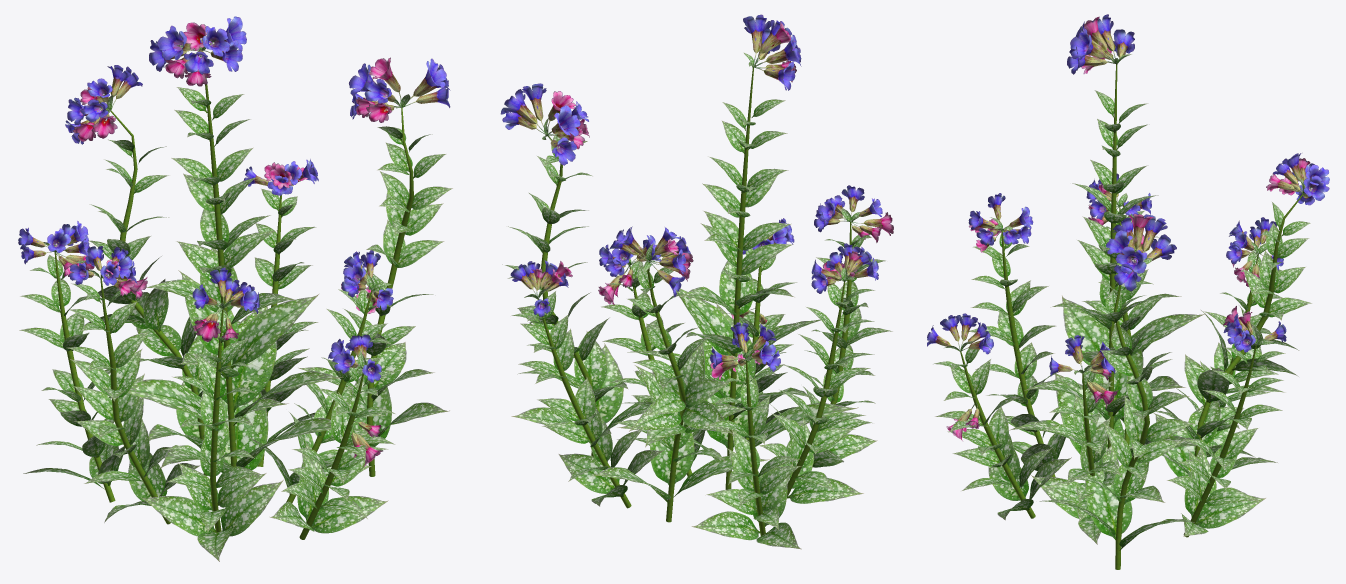
The model's file is lungwort.glb.
3 views of the same model, side by side, from view 1: azimuth 30°, elevation 25°; view 2: azimuth 150°, elevation 25°; view 3: azimuth 270°, elevation 25° (orthographic). The views are drawn at different scales.
Parts seen in each view (by area): view 1: Leaf_2_spring, Flower_Blue_spring, Bark_spring, Flower_Pink_spring; view 2: Leaf_2_spring, Flower_Blue_spring, Bark_spring, Flower_Pink_spring; view 3: Leaf_2_spring, Flower_Blue_spring, Bark_spring, Flower_Pink_spring.
Boxes of the visible parts, x1,y1,x2,y2 form: Leaf_2_spring: (19, 47, 452, 561); Flower_Blue_spring: (18, 16, 450, 382); Bark_spring: (54, 77, 413, 539); Flower_Pink_spring: (55, 22, 401, 466); Leaf_2_spring: (502, 52, 892, 549); Flower_Blue_spring: (500, 14, 882, 371); Bark_spring: (537, 67, 851, 535); Flower_Pink_spring: (531, 22, 893, 379); Leaf_2_spring: (933, 54, 1312, 550); Flower_Blue_spring: (927, 14, 1329, 376); Bark_spring: (960, 64, 1303, 569); Flower_Pink_spring: (946, 16, 1310, 440).
Bounding box in the file's own units: 0.6882 × 0.8569 × 0.671.
Materials: 4 (4 with a texture image).
